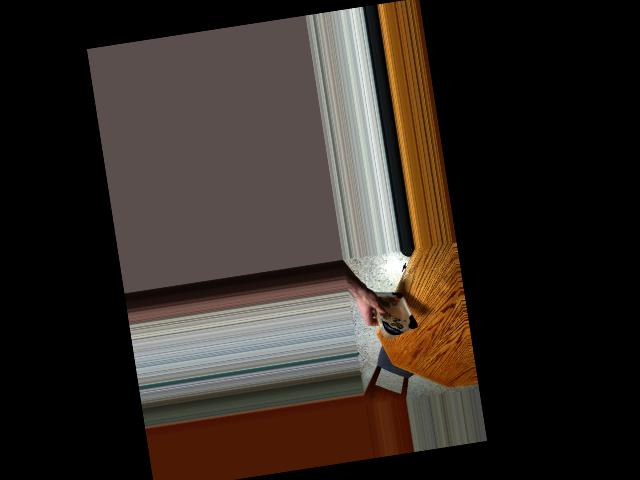cheese: (372, 285, 414, 341)
